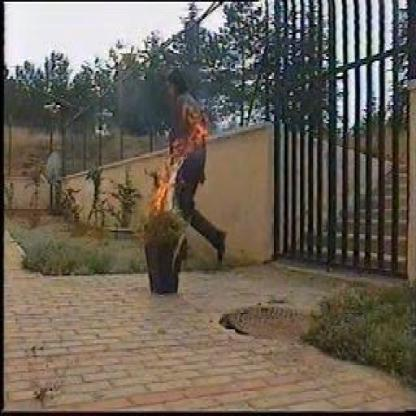-: (148, 125, 176, 147)
foggia-v2-map80-epoch100 - v1 4323: (150, 132, 202, 215)
